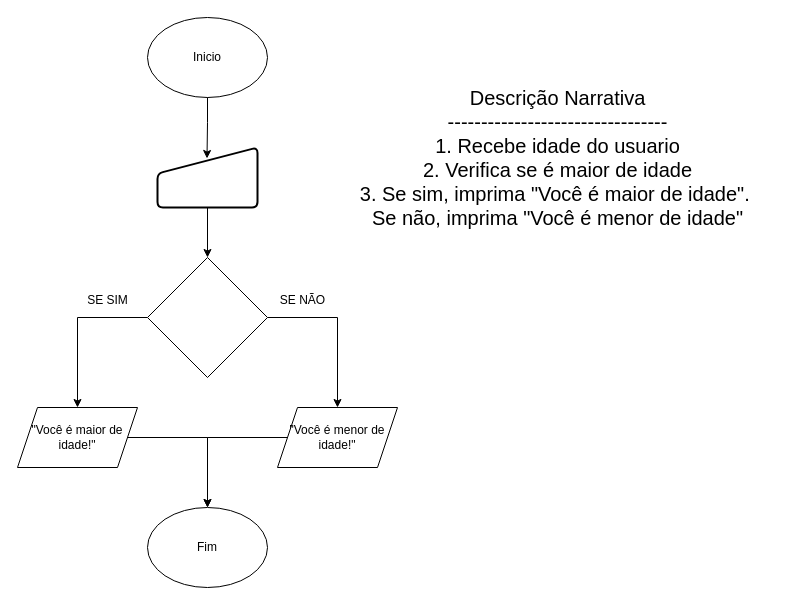
This 785x605 diagram has some shape labels left out. Here are the shapes that lost their labels. From the top down, the centre of each, then its label:
point (207, 177): Idade
point (207, 317): Idade maior ou igual que 18
